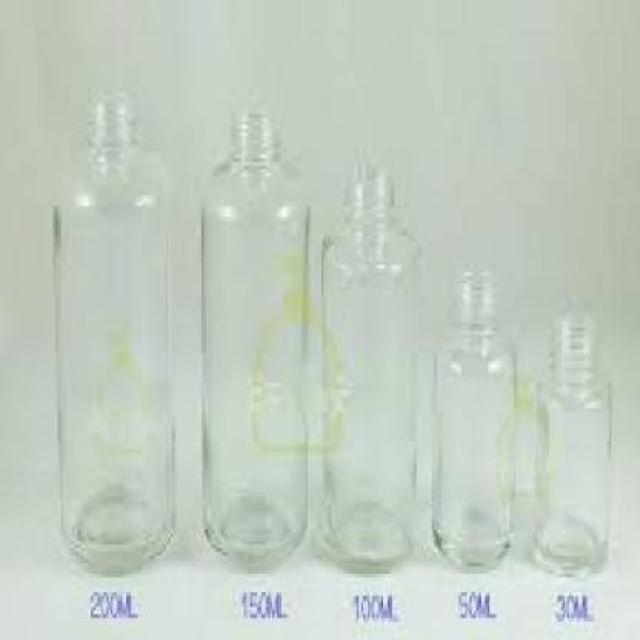kaca: (49, 92, 172, 571), (200, 111, 306, 563), (317, 169, 414, 571), (429, 269, 509, 566), (530, 317, 604, 577)
